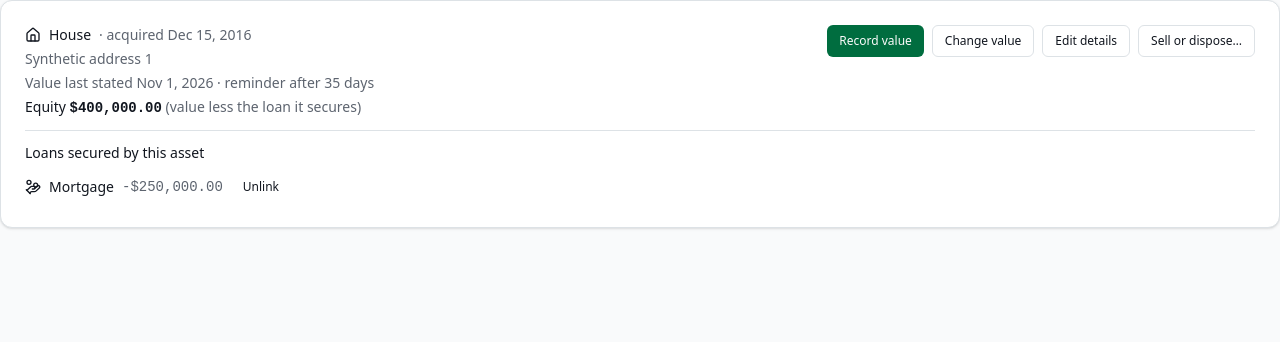
AssetPanel (#566, #567) › records a value on a date through reconcile, with its source
The width and height of the screenshot is (1280, 342).
Click the button "Record value": (876, 41) [827,25,924,57]
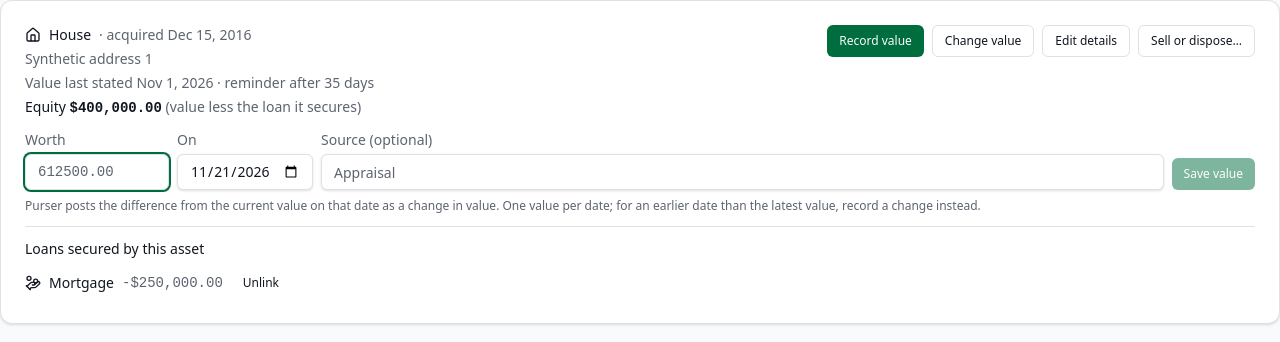
In the field named "Value": (97, 172) [25,154,169,190], type "662500.00"
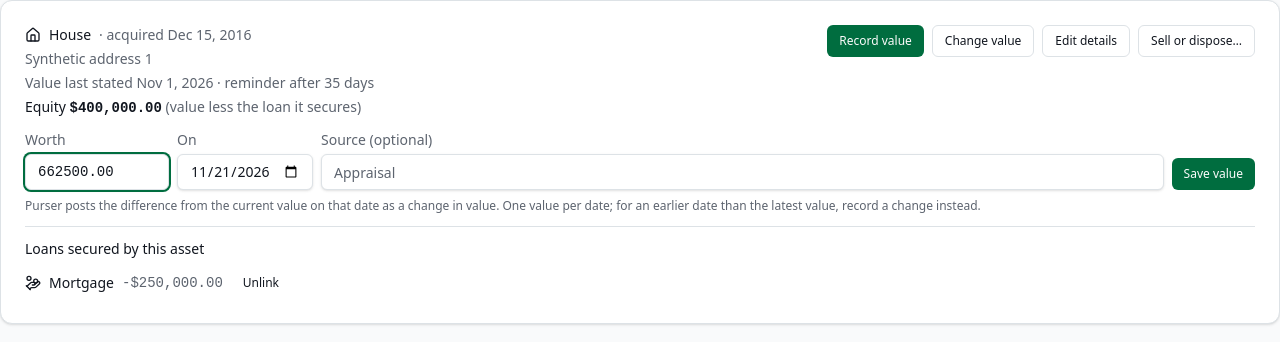
In the date field named "Value date": (245, 172) [177,154,313,190], type "2026-11-01"
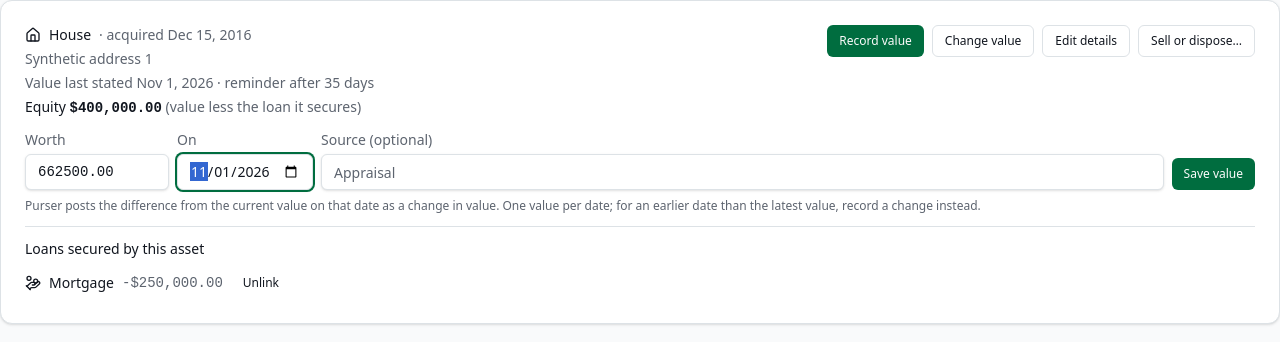
In the field named "Value source": (742, 172) [321,154,1164,190], type "Estimate midpoint"
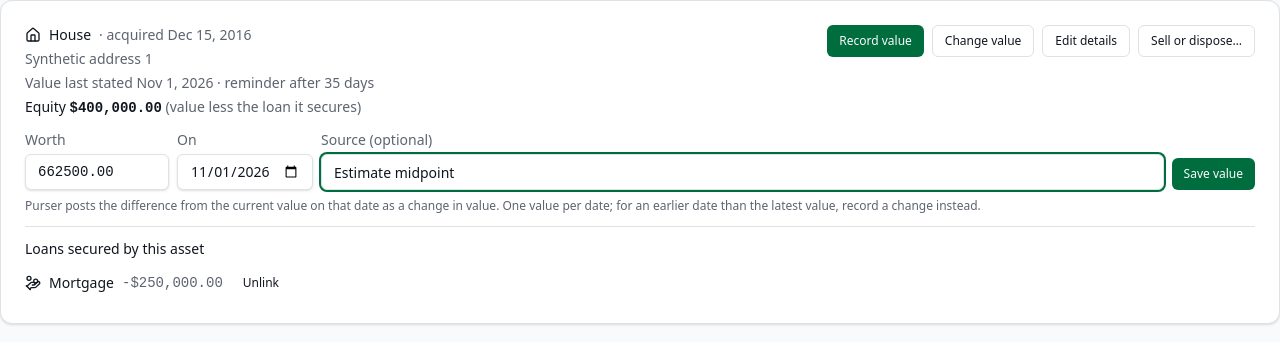
Click the button "Save value": (1213, 174) [1172,158,1255,190]
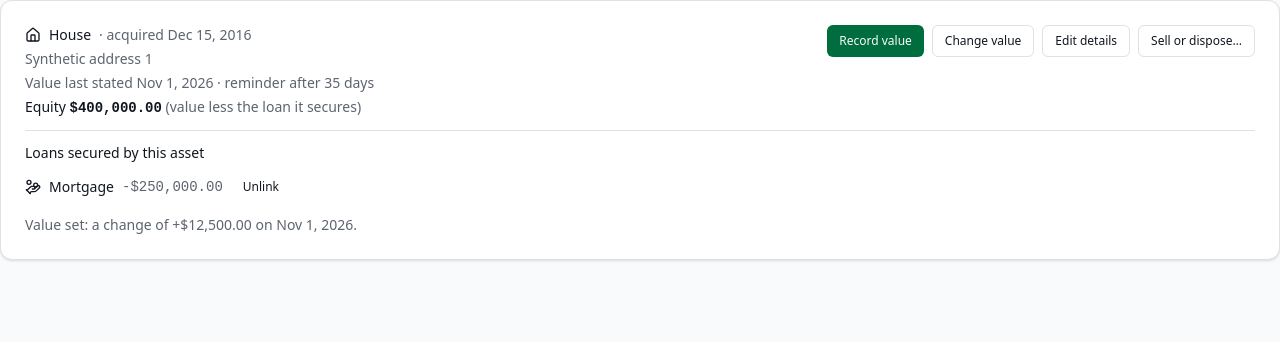
Now the message shows "+$12,500.00", box [25,215,357,234]
